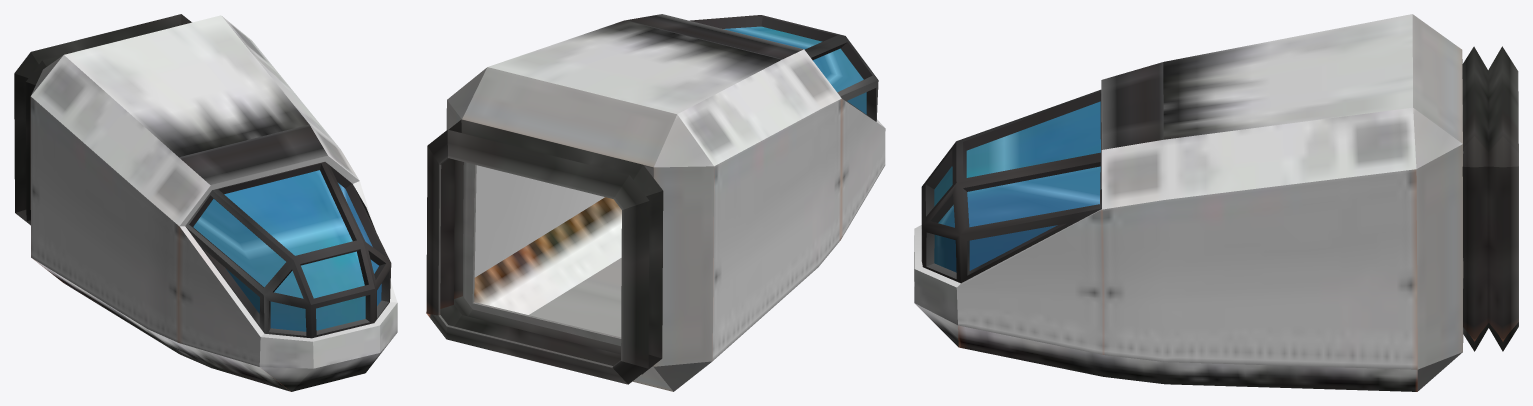
The model's file is Colony_UFO_Art.glb.
3 renders of one model, left to right at view 1: azimuth 30°, elevation 25°; view 2: azimuth 150°, elevation 25°; view 3: azimuth 270°, elevation 25°, orthographic. The views are drawn at different scales.
Parts seen in each view (by area): view 1: Colony_UFO_Art; view 2: Colony_UFO_Art; view 3: Colony_UFO_Art.
Part boxes in pixels (<box>): Colony_UFO_Art: <box>14,14,397,391</box>; Colony_UFO_Art: <box>426,14,885,391</box>; Colony_UFO_Art: <box>914,14,1518,391</box>.
Bounding box in the file's own units: 3.64 × 3.6 × 6.93.
Materials: 2 (2 with a texture image).
